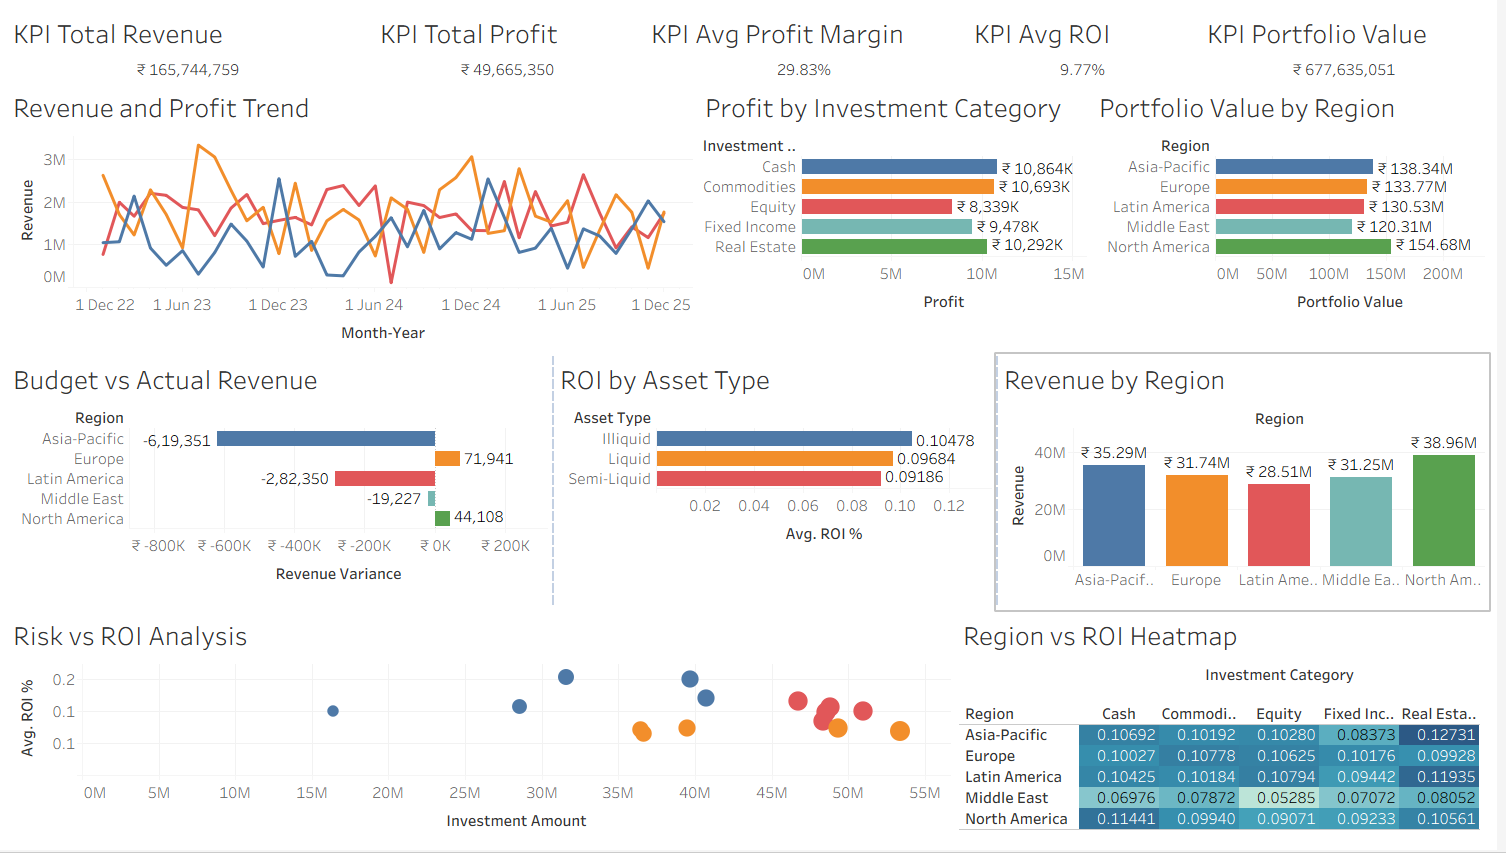

This screenshot's page, from the dashboard's own definition file:
{"tool":"tableau","page":{"name":"Dashboard","canvas":[1500,850],"ordinal":0},"visuals":[{"type":"worksheet","title":"KPI Total Revenue","mark":"Automatic","box":[8,8,366.7,74]},{"type":"worksheet","title":"KPI Total Profit","mark":"Automatic","box":[374.7,8,271.2,74]},{"type":"worksheet","title":"KPI Avg Profit Margin","mark":"Automatic","box":[645.9,8,322.8,74]},{"type":"worksheet","title":"KPI Avg ROI","mark":"Automatic","box":[968.6,8,233.8,74]},{"type":"worksheet","title":"KPI Portfolio Value","mark":"Automatic","box":[1202.4,8,289.6,74]},{"type":"worksheet","title":"Revenue and Profit Trend","mark":"Line","rows":["Revenue"],"cols":["Month-Year"],"box":[8,82,692,272]},{"type":"worksheet","title":"Profit by Investment Category","mark":"Bar","rows":["Investment Category"],"cols":["Profit"],"box":[700,82,394,272]},{"type":"worksheet","title":"Portfolio Value by Region","mark":"Bar","rows":["Region"],"cols":["Portfolio Value"],"box":[1094,82,398,272]},{"type":"worksheet","title":"Budget vs Actual Revenue","mark":"Bar","rows":["Region"],"cols":["Revenue Variance"],"box":[8,354,547,256.1]},{"type":"worksheet","title":"ROI by Asset Type","mark":"Bar","rows":["Asset Type"],"cols":["ROI %"],"box":[555,354,444,256.1]},{"type":"worksheet","title":"Revenue by Region","mark":"Bar","rows":["Revenue"],"cols":["Region"],"box":[999,354,493,256.1]},{"type":"worksheet","title":"Risk vs ROI Analysis","mark":"Circle","rows":["ROI %"],"cols":["Investment Amount"],"box":[8,610.1,950,231.9]},{"type":"worksheet","title":"Region vs ROI Heatmap","mark":"Square","rows":["Region"],"cols":["Investment Category"],"box":[958,610.1,534,231.9]}]}

Visuals, with their boxes in screenshot pixels (x1, y1, x2, y2), scaled from the page's 1500x850 canvas onto the 1506x853 screenshot:
"KPI Total Revenue" worksheet: BBox(8, 8, 376, 82)
"KPI Total Profit" worksheet: BBox(376, 8, 648, 82)
"KPI Avg Profit Margin" worksheet: BBox(648, 8, 973, 82)
"KPI Avg ROI" worksheet: BBox(972, 8, 1207, 82)
"KPI Portfolio Value" worksheet: BBox(1207, 8, 1498, 82)
"Revenue and Profit Trend" worksheet (Line marks): BBox(8, 82, 703, 355)
"Profit by Investment Category" worksheet (Bar marks): BBox(703, 82, 1098, 355)
"Portfolio Value by Region" worksheet (Bar marks): BBox(1098, 82, 1498, 355)
"Budget vs Actual Revenue" worksheet (Bar marks): BBox(8, 355, 557, 612)
"ROI by Asset Type" worksheet (Bar marks): BBox(557, 355, 1003, 612)
"Revenue by Region" worksheet (Bar marks): BBox(1003, 355, 1498, 612)
"Risk vs ROI Analysis" worksheet (Circle marks): BBox(8, 612, 962, 845)
"Region vs ROI Heatmap" worksheet (Square marks): BBox(962, 612, 1498, 845)
